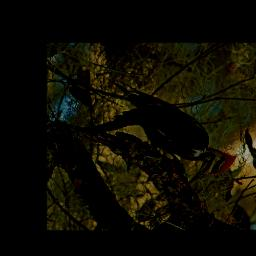Woodpecker: (110, 81, 238, 184)
